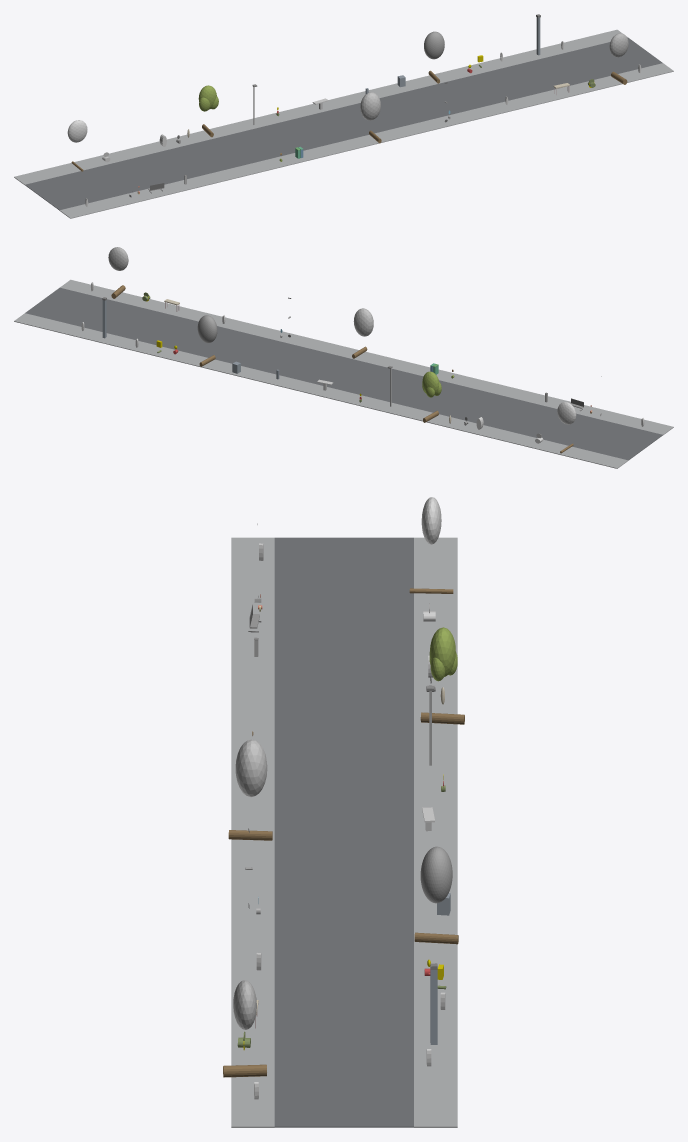
3 renders of one model, top to bottom at view 1: azimuth 30°, elevation 25°; view 2: azimuth 150°, elevation 25°; view 3: azimuth 270°, elevation 25°, orthographic. The views are drawn at different scales.
Visible parts, largest first — view 1: road_slab, sidewalk_left, sidewalk_right, inst_0014, inst_0015, inst_0013, inst_0016, inst_0012; view 2: road_slab, sidewalk_right, sidewalk_left, inst_0014, inst_0015, inst_0013, inst_0016, inst_0012; view 3: road_slab, sidewalk_left, sidewalk_right, inst_0014, inst_0015, inst_0013, inst_0016, inst_0012.
Boxes of the visible parts, bbox=[...] form: road_slab: bbox=[25, 37, 662, 210]; sidewalk_left: bbox=[59, 63, 673, 218]; sidewalk_right: bbox=[14, 29, 627, 184]; inst_0014: bbox=[360, 92, 381, 143]; inst_0015: bbox=[424, 31, 444, 83]; inst_0013: bbox=[198, 85, 218, 137]; inst_0016: bbox=[609, 33, 628, 84]; inst_0012: bbox=[67, 120, 87, 171]; road_slab: bbox=[25, 287, 662, 460]; sidewalk_right: bbox=[14, 313, 628, 468]; sidewalk_left: bbox=[60, 279, 673, 435]; inst_0014: bbox=[352, 308, 373, 358]; inst_0015: bbox=[197, 315, 217, 366]; inst_0013: bbox=[422, 371, 441, 422]; inst_0016: bbox=[108, 247, 128, 298]; inst_0012: bbox=[557, 402, 576, 453]; road_slab: bbox=[274, 537, 413, 1127]; sidewalk_left: bbox=[231, 537, 274, 1127]; sidewalk_right: bbox=[414, 537, 457, 1127]; inst_0014: bbox=[228, 739, 272, 840]; inst_0015: bbox=[414, 846, 458, 944]; inst_0013: bbox=[420, 627, 464, 724]; inst_0016: bbox=[223, 980, 266, 1077]; inst_0012: bbox=[409, 497, 453, 593].
Bounding box in the file's own units: 80 × 6.08 × 13.89.
